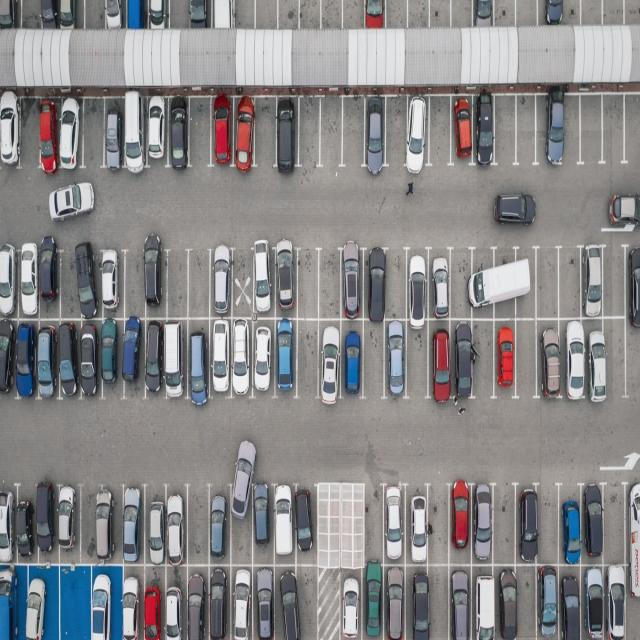space-empty: (58, 562, 93, 638), (228, 480, 253, 566), (603, 318, 629, 397), (293, 320, 319, 398), (512, 320, 538, 398), (470, 319, 496, 396), (291, 564, 318, 638), (405, 322, 431, 398), (361, 319, 386, 396), (426, 486, 450, 566), (426, 96, 452, 168), (492, 488, 516, 566), (254, 97, 280, 169), (424, 564, 449, 638), (188, 97, 214, 168), (361, 488, 384, 568), (601, 246, 626, 319), (228, 247, 253, 320), (296, 97, 322, 167), (492, 93, 517, 165), (293, 251, 319, 320), (537, 489, 560, 567), (534, 249, 559, 320), (381, 250, 406, 321), (20, 98, 43, 174), (602, 486, 624, 565), (449, 250, 473, 322), (342, 95, 366, 167), (515, 566, 539, 638), (316, 251, 341, 320), (186, 486, 208, 564), (384, 97, 408, 168), (83, 99, 107, 170), (557, 250, 582, 318), (580, 94, 604, 164), (320, 97, 344, 167), (188, 250, 212, 319), (515, 94, 538, 165), (603, 96, 627, 164), (124, 250, 148, 317), (167, 248, 190, 316), (80, 489, 101, 563), (61, 249, 83, 318), (318, 490, 337, 567), (563, 95, 581, 167), (625, 320, 640, 396), (624, 94, 640, 162), (319, 0, 342, 32), (298, 0, 322, 30), (255, 0, 278, 30), (342, 0, 365, 30), (277, 0, 299, 31), (85, 0, 107, 31), (383, 0, 407, 28), (168, 0, 190, 30), (449, 0, 473, 27), (407, 1, 431, 28), (430, 0, 453, 28), (234, 0, 256, 29), (515, 0, 538, 27), (21, 0, 42, 29), (493, 0, 515, 27), (601, 0, 624, 25), (581, 0, 603, 25), (624, 0, 640, 23)
space-occupied: (18, 564, 57, 640), (86, 562, 120, 638), (569, 321, 600, 402), (560, 318, 590, 398), (427, 321, 454, 400), (251, 318, 278, 396), (537, 321, 564, 399), (186, 319, 212, 400), (540, 94, 569, 166), (471, 564, 499, 638), (339, 318, 365, 397), (272, 318, 298, 396), (380, 483, 405, 564), (450, 319, 475, 400), (446, 483, 471, 563), (405, 484, 430, 564), (227, 319, 252, 399), (226, 563, 253, 637), (56, 485, 82, 561), (587, 318, 612, 397), (404, 97, 431, 170), (492, 317, 517, 395), (140, 564, 166, 639), (163, 486, 188, 564), (122, 95, 148, 170), (162, 318, 186, 399), (382, 321, 407, 398), (253, 243, 279, 317), (448, 564, 474, 638), (206, 563, 232, 637), (183, 564, 209, 638), (208, 319, 232, 399), (317, 316, 341, 396), (34, 319, 58, 399), (491, 247, 518, 318), (121, 563, 146, 639), (578, 562, 603, 638), (163, 566, 189, 639), (123, 318, 147, 397), (472, 483, 496, 562), (513, 485, 537, 564), (560, 489, 585, 564), (58, 98, 84, 170), (122, 485, 146, 563), (58, 320, 81, 401), (534, 566, 559, 640), (272, 246, 298, 317), (471, 247, 497, 318), (340, 569, 366, 640), (13, 319, 36, 399), (208, 248, 234, 318), (577, 248, 603, 318), (142, 485, 165, 564), (251, 482, 273, 564), (209, 96, 234, 168), (143, 96, 168, 168), (558, 563, 582, 638), (380, 563, 404, 638), (274, 563, 298, 638), (450, 96, 476, 165), (101, 249, 127, 318), (209, 483, 231, 564), (273, 484, 296, 561), (426, 251, 452, 319), (364, 95, 388, 168), (493, 567, 517, 640), (362, 250, 387, 320), (95, 487, 118, 563), (101, 316, 123, 395), (144, 319, 166, 398), (275, 97, 299, 168), (168, 99, 192, 170), (254, 564, 277, 638), (406, 564, 429, 638), (340, 250, 365, 318), (406, 251, 431, 319), (230, 97, 254, 167), (80, 247, 104, 317), (359, 567, 382, 640), (15, 247, 38, 319), (35, 485, 57, 560), (14, 487, 36, 562), (473, 97, 496, 168), (144, 248, 168, 316), (38, 100, 60, 174), (37, 246, 60, 316), (513, 248, 536, 318), (80, 320, 100, 400), (607, 562, 628, 638), (0, 564, 21, 640), (293, 490, 314, 565), (0, 95, 21, 169), (584, 487, 604, 564), (104, 99, 125, 170), (0, 244, 19, 317), (0, 490, 17, 566), (625, 482, 640, 564), (0, 319, 14, 397), (626, 562, 640, 637), (626, 246, 640, 318), (540, 0, 580, 25), (126, 0, 150, 31), (147, 0, 171, 29), (362, 0, 386, 29), (56, 0, 80, 29), (210, 0, 233, 29), (473, 0, 497, 27), (187, 0, 210, 28), (104, 0, 126, 29), (0, 0, 20, 29), (39, 0, 58, 29)
